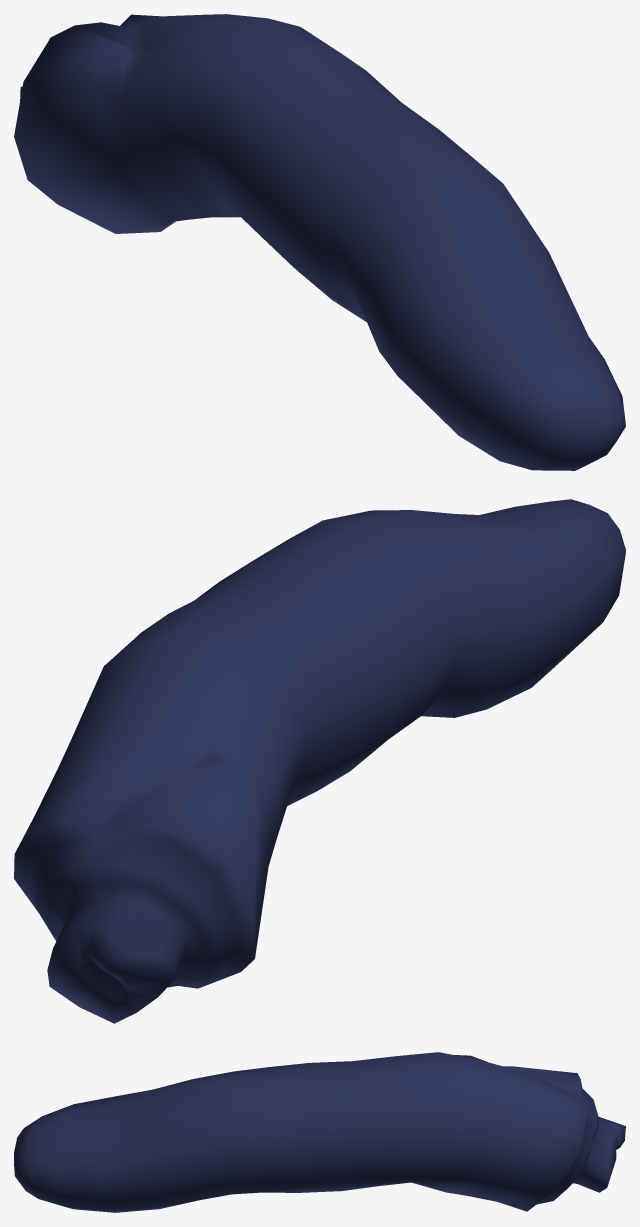
Rendered from Forefinger.FBX.
3 views of the same model, one above another, from view 1: azimuth 30°, elevation 25°; view 2: azimuth 150°, elevation 25°; view 3: azimuth 270°, elevation 25° (orthographic). The views are drawn at different scales.
Parts seen in each view (by area): view 1: Forefinger; view 2: Forefinger; view 3: Forefinger.
Boxes of the visible parts, <box> form: Forefinger: <box>14,14,625,470</box>; Forefinger: <box>14,499,625,1023</box>; Forefinger: <box>14,1052,625,1212</box>.
Bounding box in the file's own units: 2.93 × 2.79 × 9.87.
